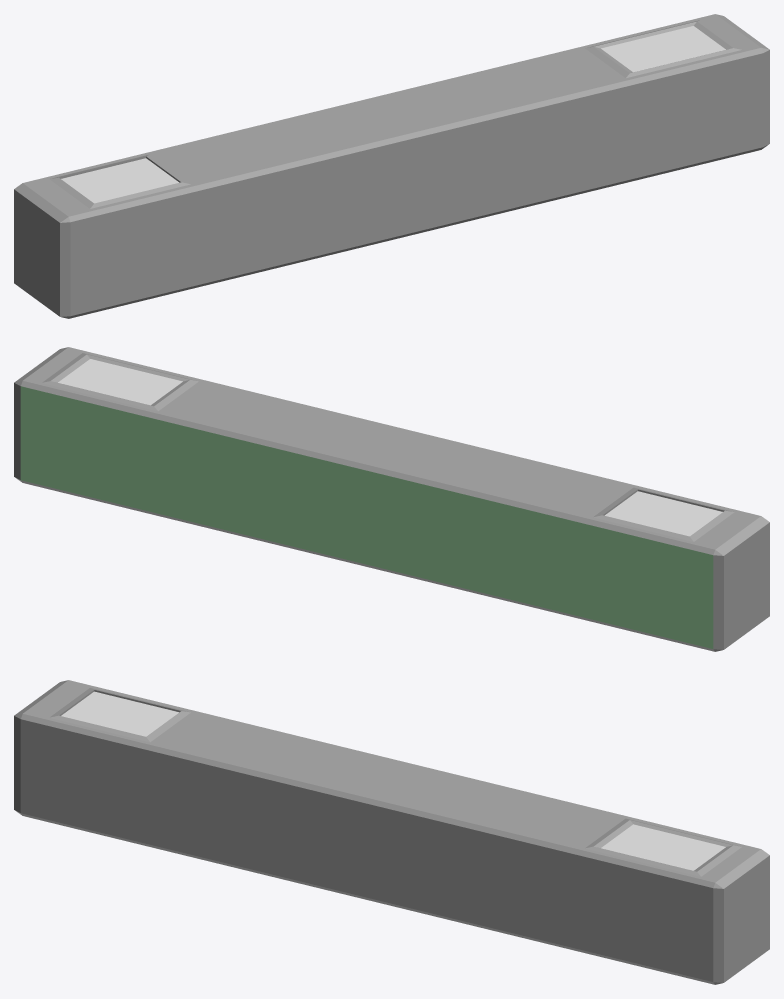
The model's file is Platform Edge.fbx.
The picture shows the model from 3 angles, top to bottom: view 1: azimuth 30°, elevation 25°; view 2: azimuth 150°, elevation 25°; view 3: azimuth 330°, elevation 25°; orthographic projection.
Visible parts, largest first — view 1: pCube495; view 2: pCube495; view 3: pCube495.
Boxes of the visible parts, box(x1,y1,x2,y2) form: pCube495: box(14, 14, 769, 318); pCube495: box(14, 347, 769, 651); pCube495: box(14, 680, 769, 984).
Size of the model in its own units: 11.82 by 1.65 by 1.44.
